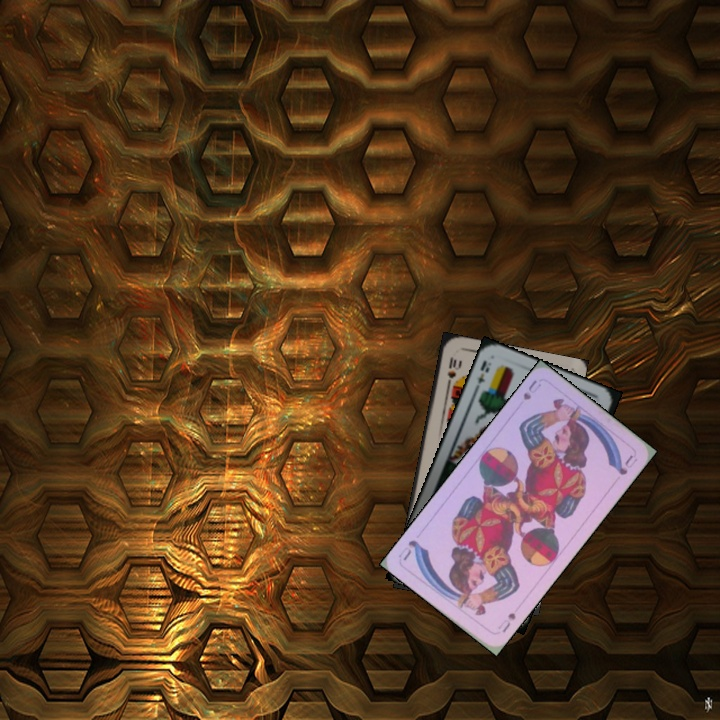EK: (470, 356, 494, 394)
S10: (443, 352, 459, 389)
SU: (519, 376, 544, 403), (493, 608, 518, 635)
